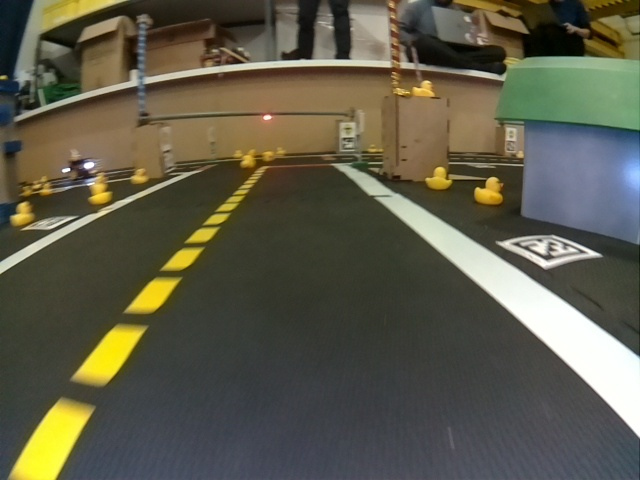Duckie: (476, 176, 504, 204), (10, 201, 33, 226), (88, 183, 113, 205), (427, 168, 451, 190), (412, 79, 435, 95), (132, 168, 149, 184), (241, 155, 256, 169), (42, 184, 53, 196), (265, 152, 275, 162)
Duckiebot: (63, 158, 99, 180)
QR code: (501, 234, 602, 267), (23, 215, 77, 230), (341, 137, 355, 149)
Traffic light: (262, 113, 272, 122)
